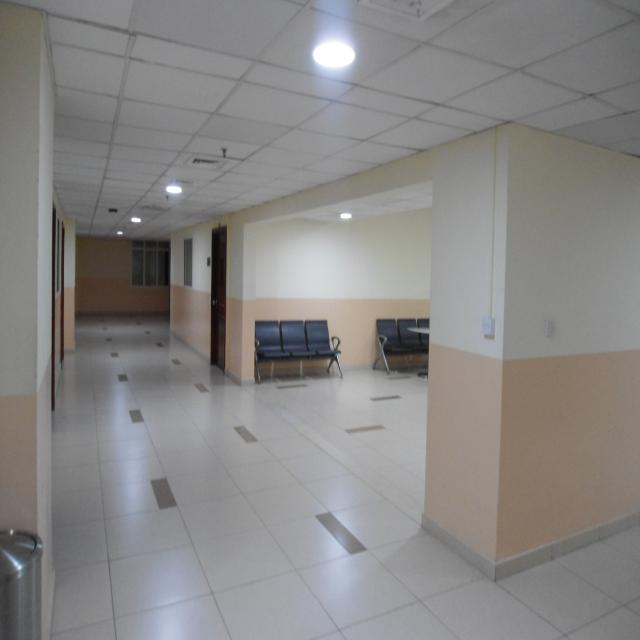bench: (244, 314, 356, 383), (372, 312, 428, 370)
door: (207, 220, 231, 372), (48, 218, 62, 403)
dustbin: (0, 510, 48, 640)
wall: (502, 122, 640, 582), (427, 132, 500, 568), (176, 233, 240, 384), (80, 237, 170, 318)
